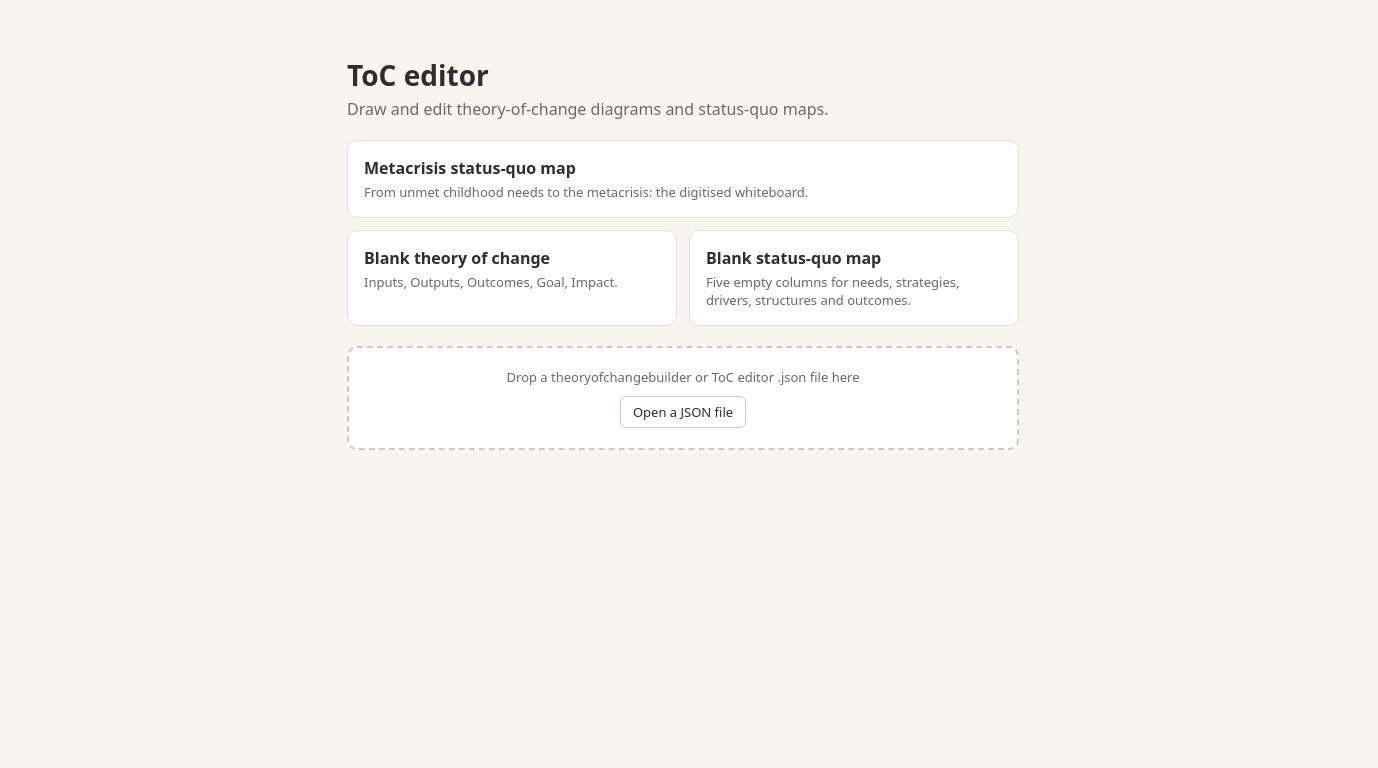
Test: App: home and editor › discard clears the stored draft
Click the button "Blank theory of change": (512, 278) [347,230,677,326]
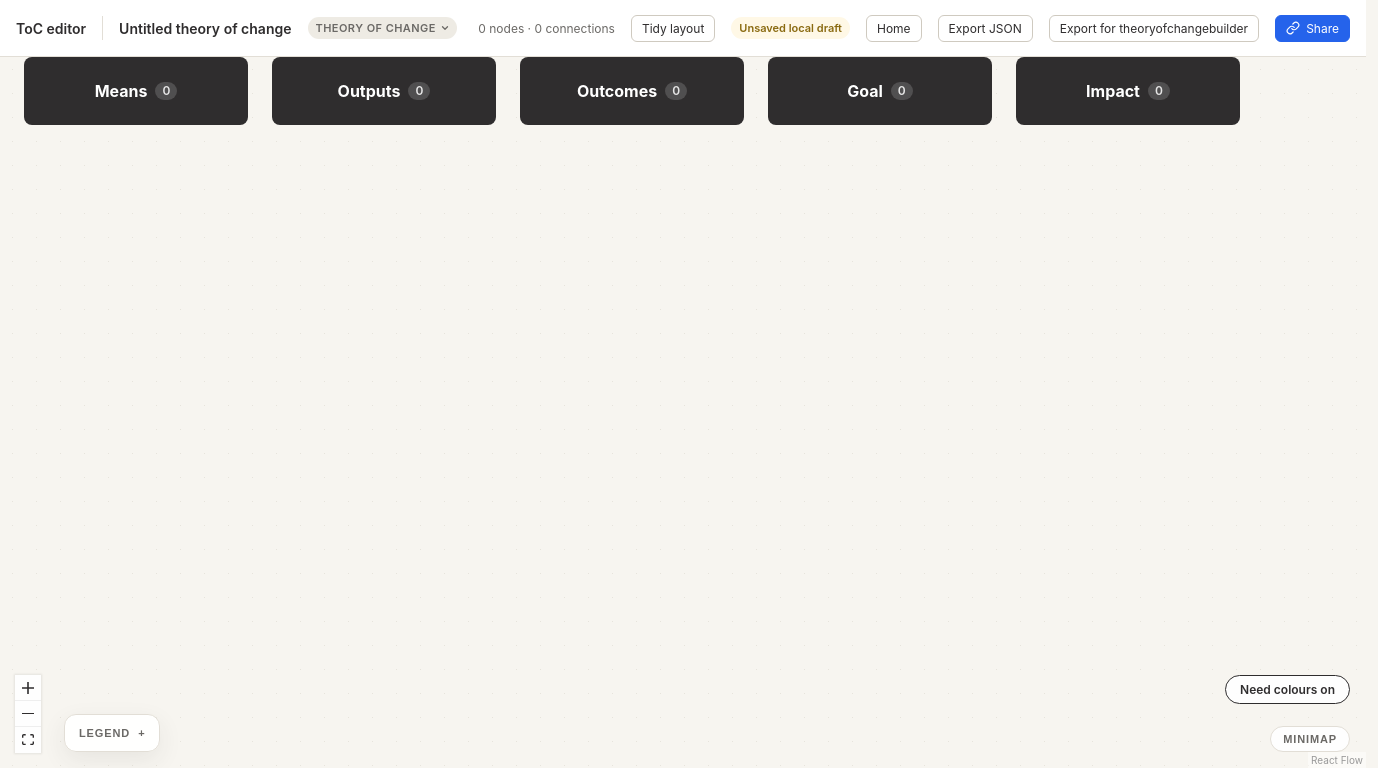
Click the button "Home": (894, 28) [866,14,922,42]
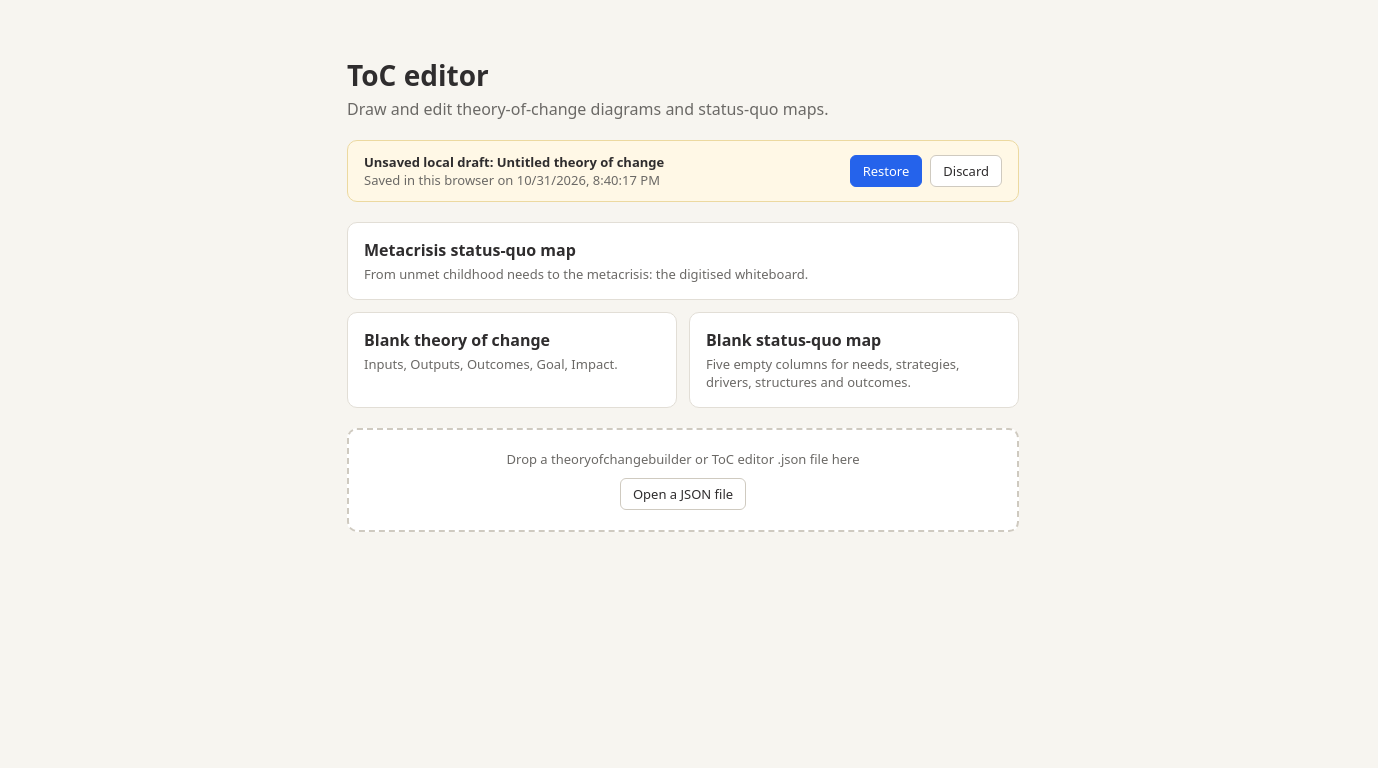
Click the button "Discard": (966, 171) [930,155,1002,187]
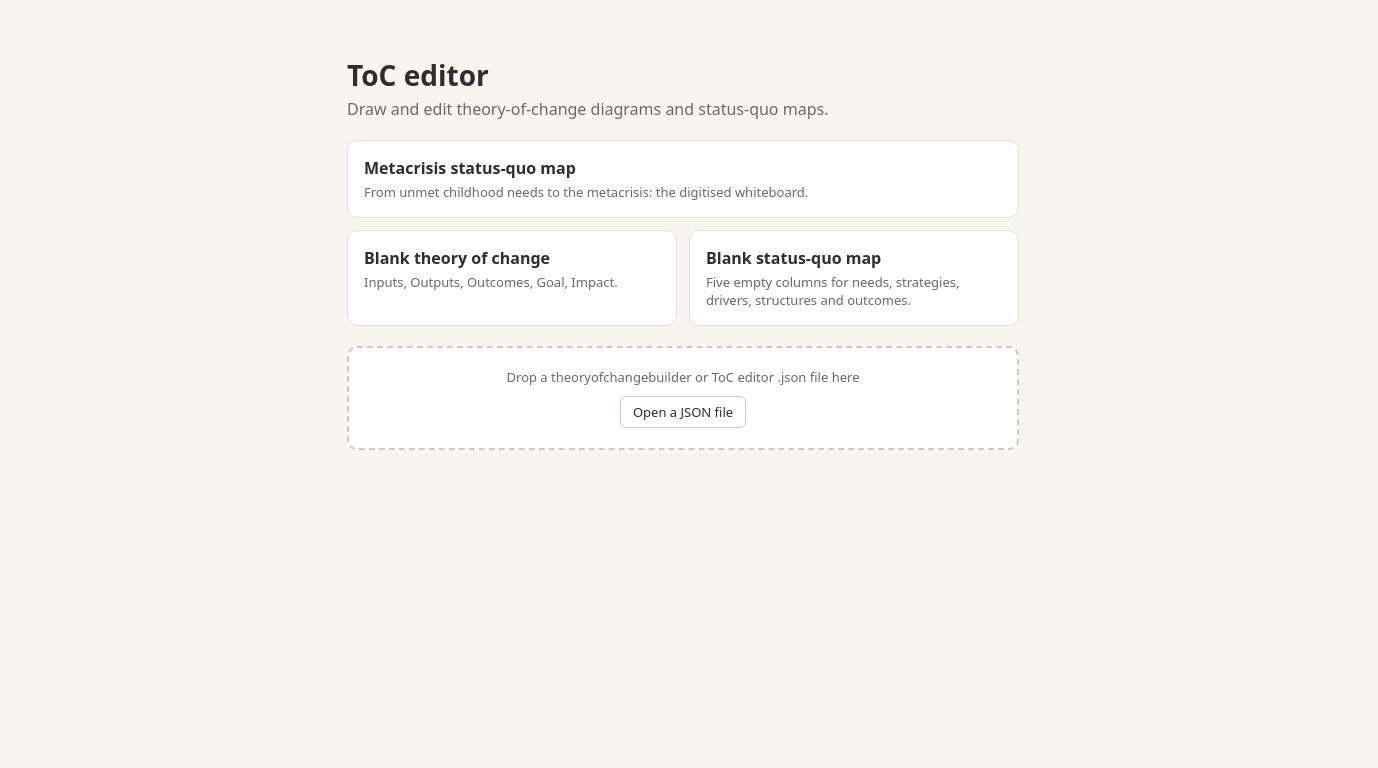
Check: the text "Unsaved local draft" is gone
